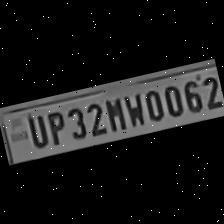0: (138, 84, 166, 124), (159, 80, 185, 120)
2: (82, 98, 108, 138), (198, 72, 224, 111)
3: (62, 103, 89, 142)
6: (178, 76, 203, 116)
M: (101, 94, 128, 134)
P: (43, 107, 69, 147)
U: (23, 111, 49, 150)
W: (120, 89, 146, 129)
